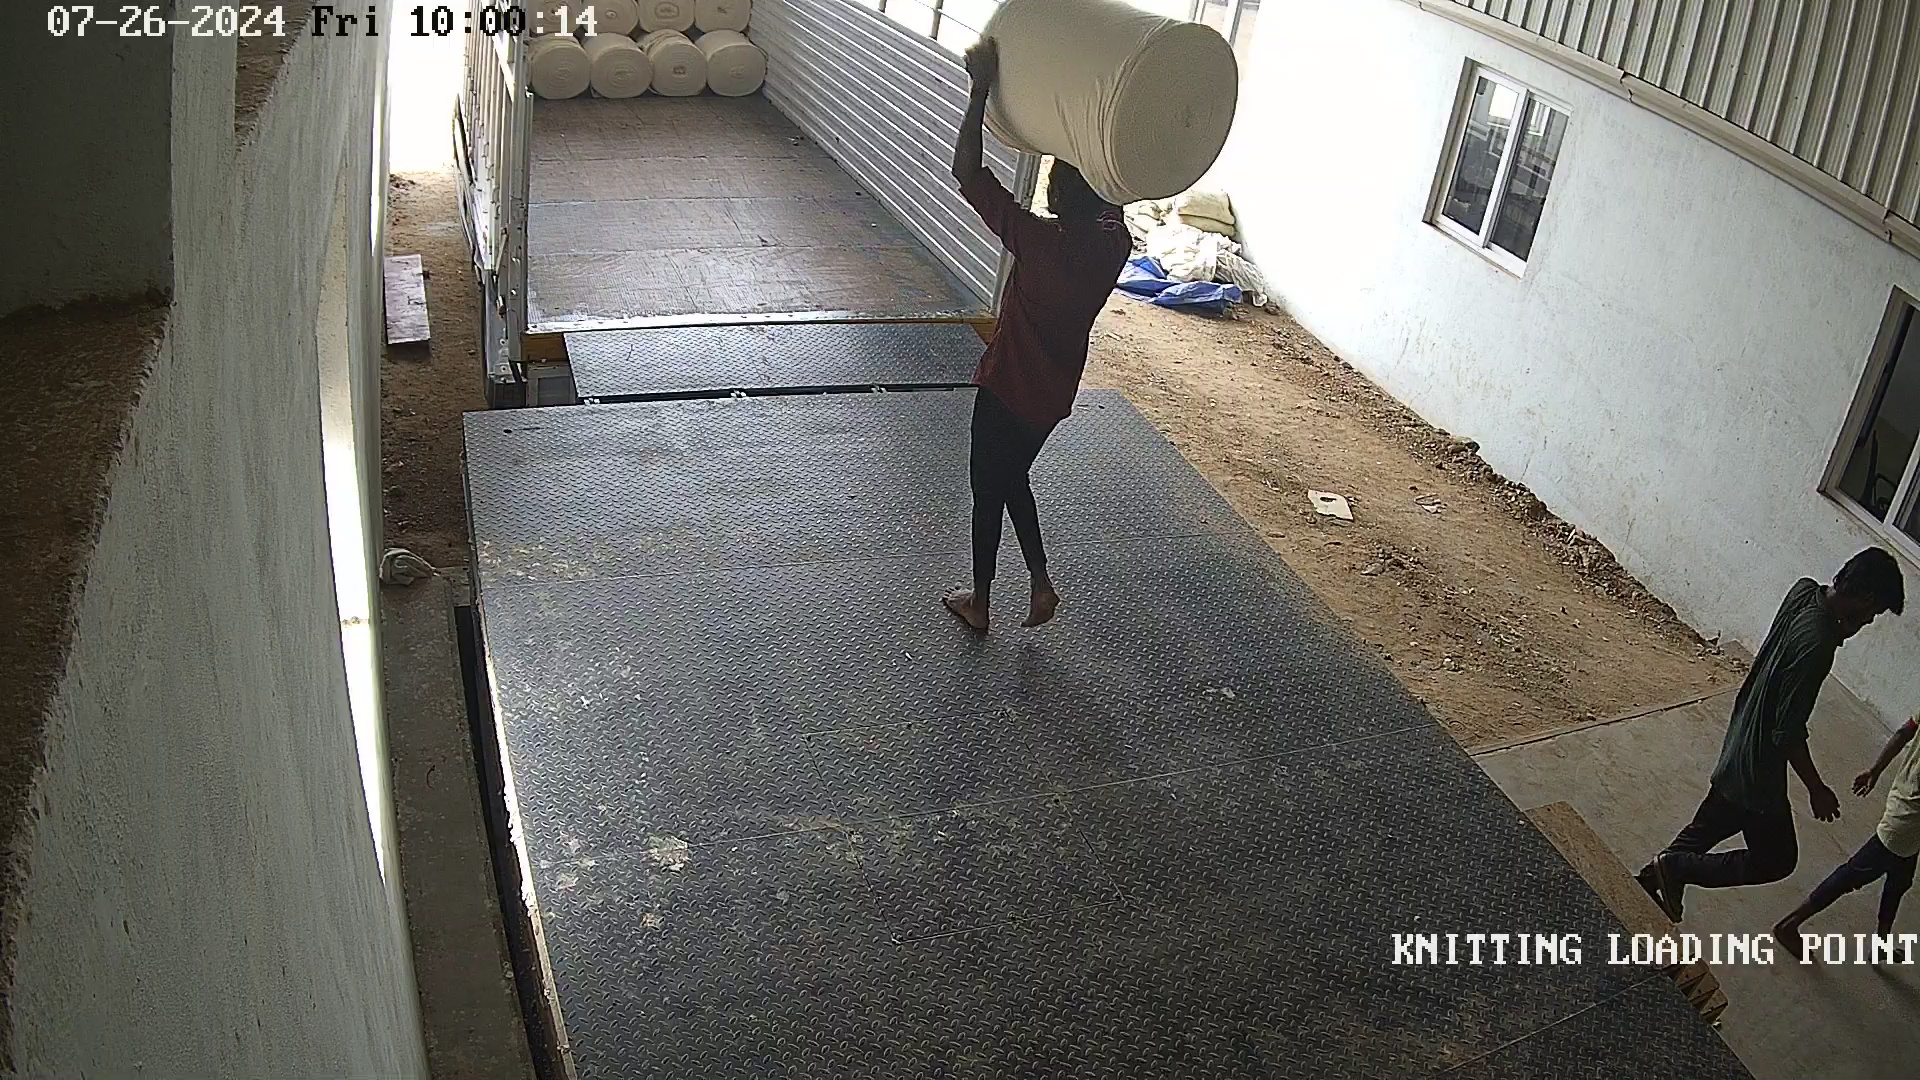bag: (973, 1, 1244, 211)
